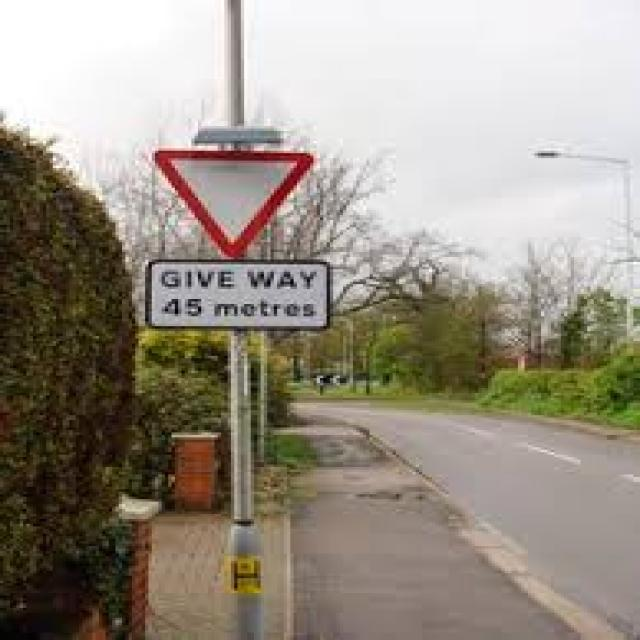Ceder-le-Passage: (149, 150, 319, 262)
